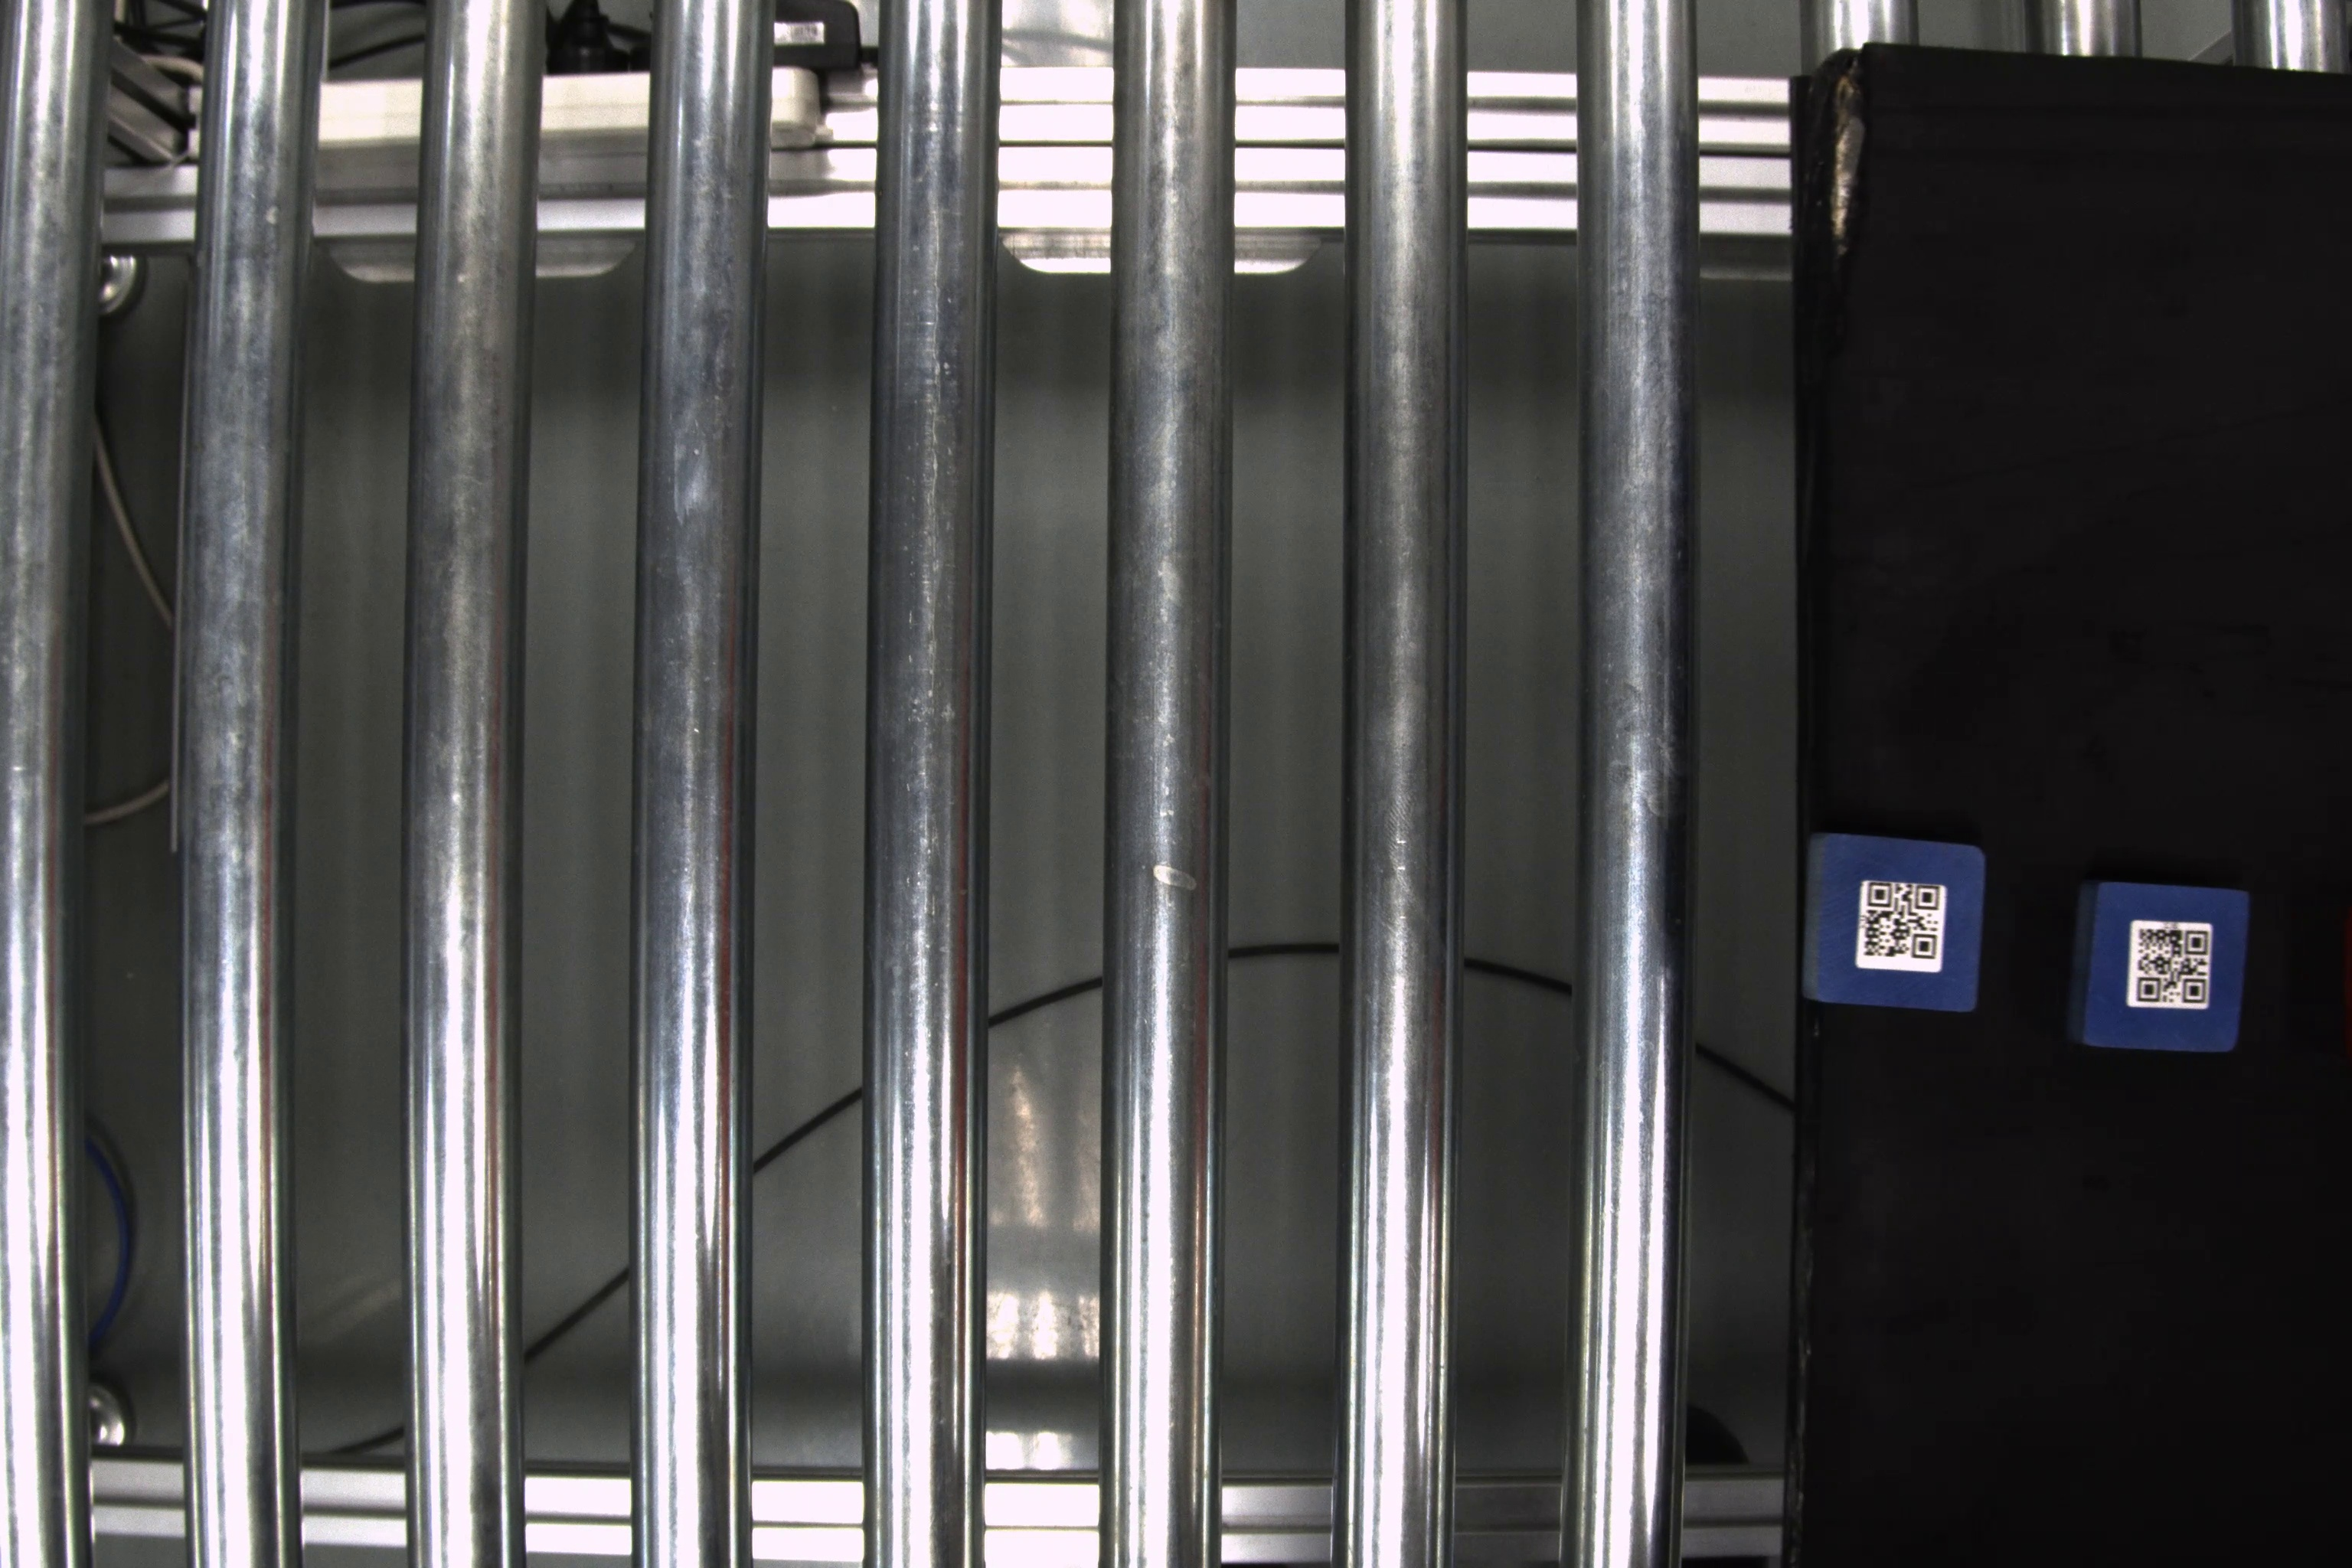wood: (1797, 826, 1988, 1011), (2070, 870, 2247, 1057)
